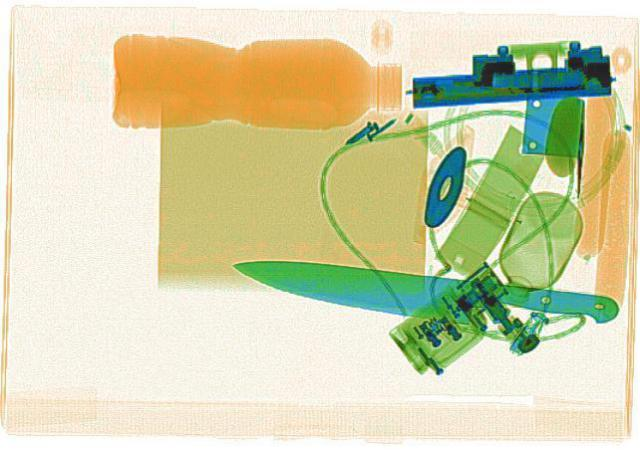Knife: (222, 243, 620, 340)
